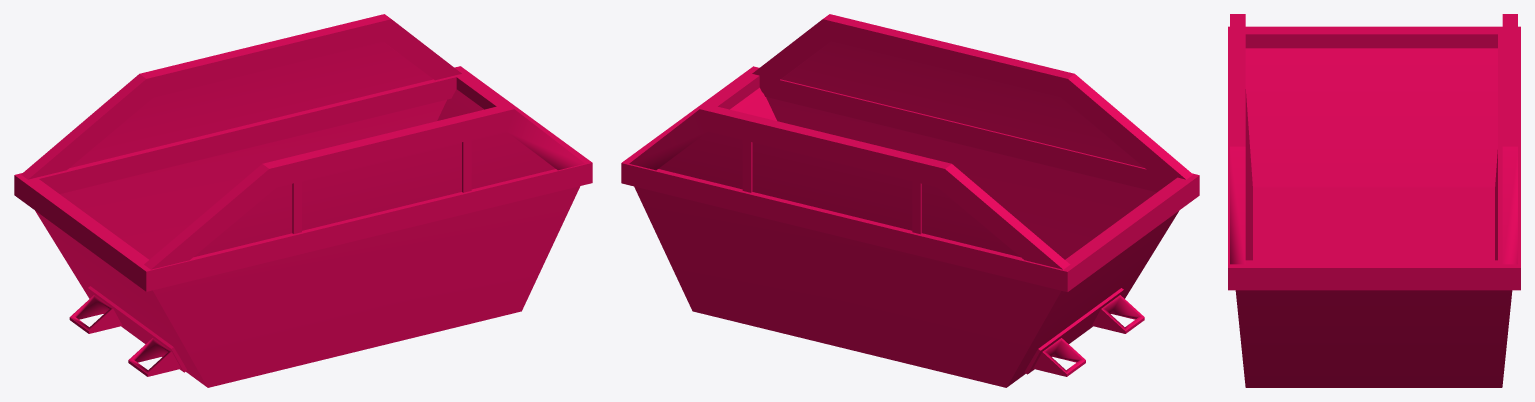
Rendered from Construction_Dumpster_01_Lod0.fbx.
3 views of the same model, side by side, from view 1: azimuth 30°, elevation 25°; view 2: azimuth 150°, elevation 25°; view 3: azimuth 270°, elevation 25° (orthographic). The views are drawn at different scales.
Visible parts, largest first — view 1: Construction_Dumpster_01_Lod0; view 2: Construction_Dumpster_01_Lod0; view 3: Construction_Dumpster_01_Lod0.
Boxes of the visible parts, x1=… form: Construction_Dumpster_01_Lod0: x1=14, y1=14, x2=592, y2=387; Construction_Dumpster_01_Lod0: x1=621, y1=14, x2=1199, y2=387; Construction_Dumpster_01_Lod0: x1=1228, y1=14, x2=1520, y2=387.
Size of the model in its own units: 719 by 325 by 369.
